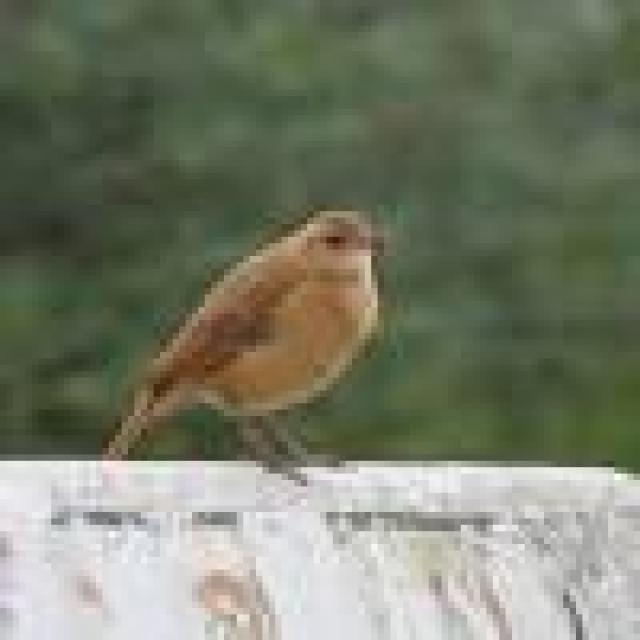bird: (67, 186, 458, 576)
